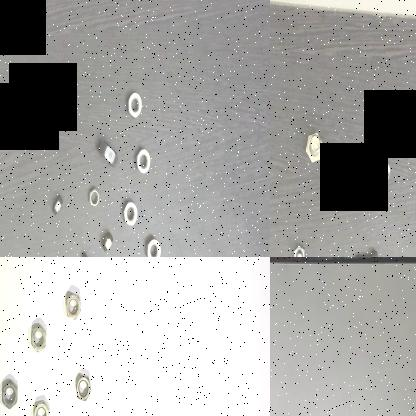Bolts: (301, 126, 327, 168), (372, 151, 394, 193), (340, 172, 354, 200), (351, 246, 383, 257), (291, 237, 307, 257)
NUTS: (97, 134, 119, 172), (30, 316, 50, 356), (123, 89, 145, 122), (0, 375, 20, 411), (74, 368, 94, 404), (64, 287, 84, 323), (123, 199, 139, 229), (136, 147, 152, 177), (31, 393, 51, 416), (144, 233, 163, 257), (86, 182, 102, 210), (101, 226, 114, 254), (51, 192, 64, 220), (81, 250, 94, 257)
